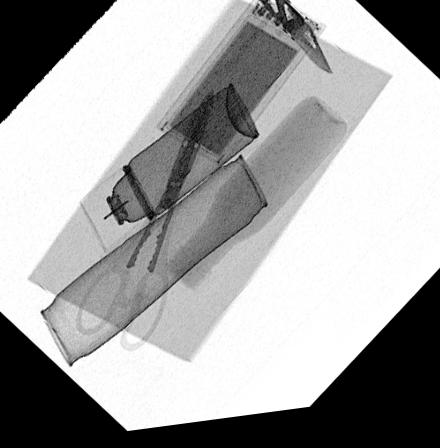Knife: (251, 0, 333, 85)
Powerbank: (156, 0, 328, 174)
Scissors: (73, 93, 214, 352)
Sprayer: (78, 88, 257, 256)
